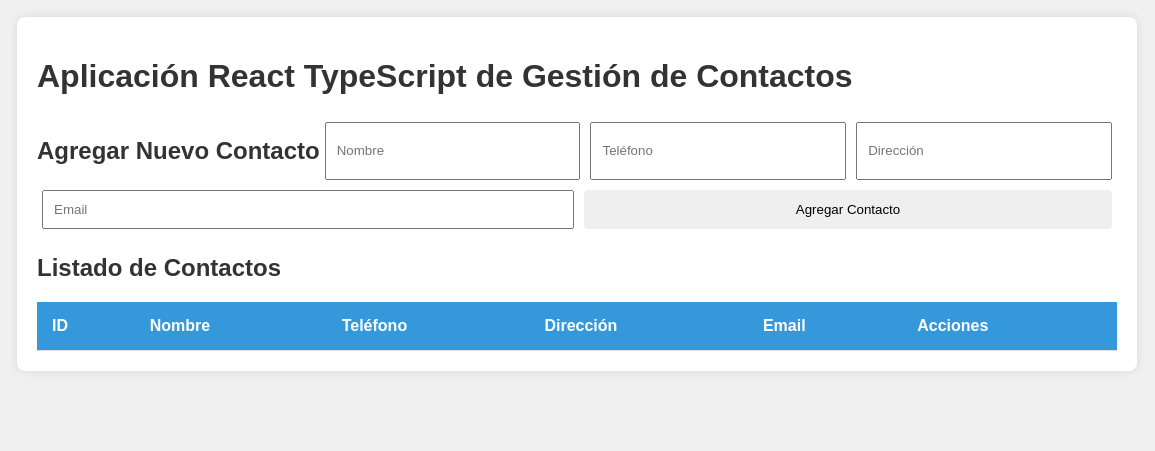
Test case: adds a new contact
# Simula la entrada de datos
In the field with placeholder "Nombre": (453, 151) [325,122,580,180], type "William Camacho"
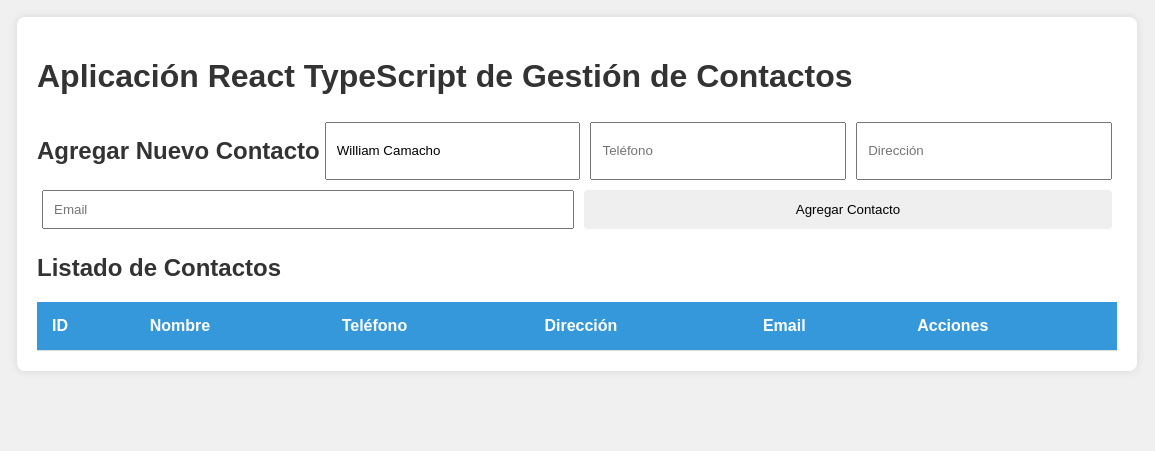
In the field with placeholder "Teléfono": (718, 151) [590,122,846,180], type "123456789"
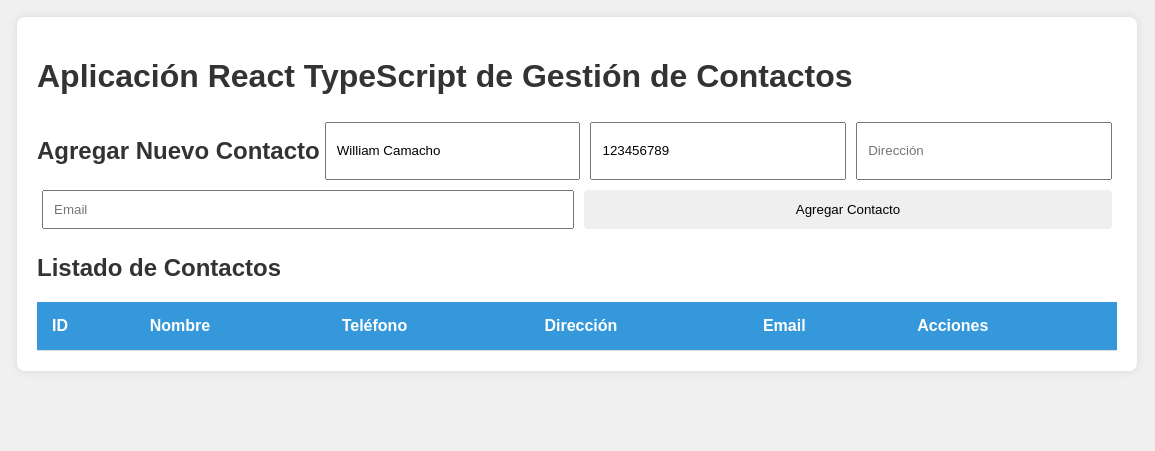
In the field with placeholder "Dirección": (984, 151) [856,122,1112,180], type "123 Main St"
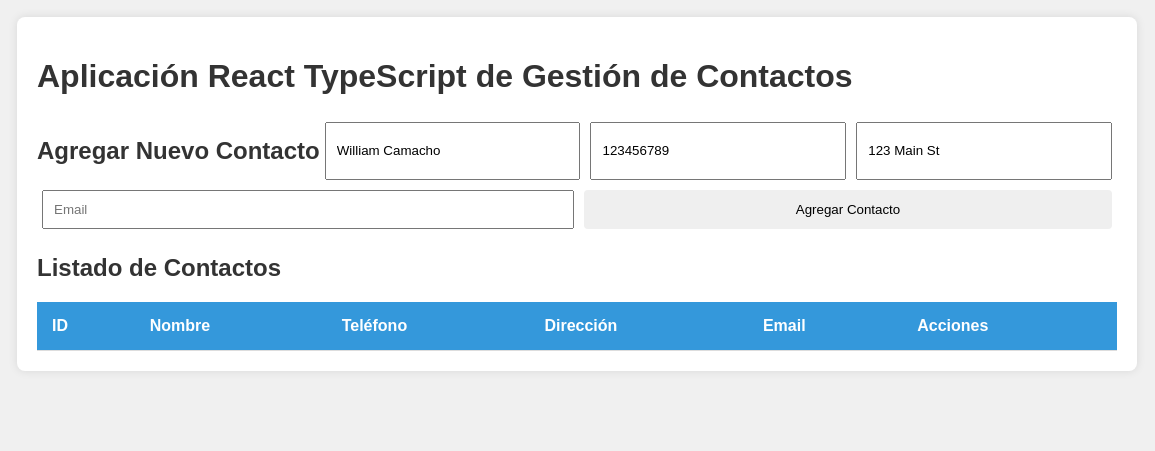
In the field with placeholder "Email": (308, 209) [42,190,574,229], type "john@example.com"
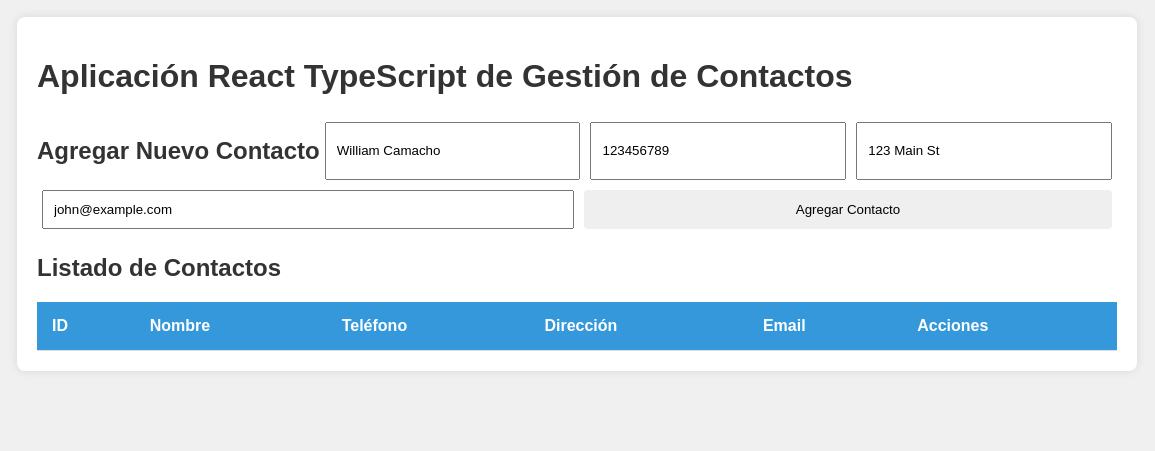
# Simula el clic en el botón de agregar contacto
Click the button "Agregar Contacto": (848, 209) [584,190,1112,229]
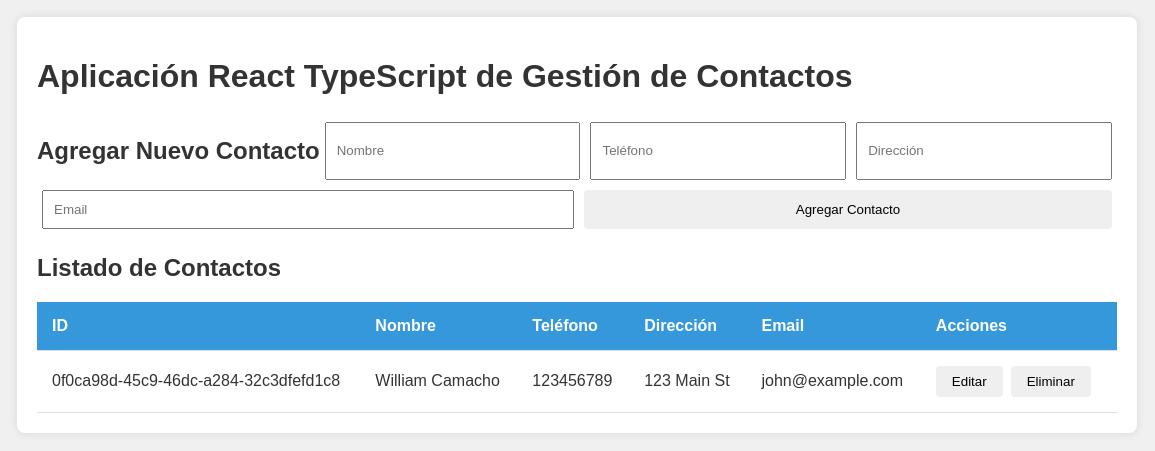
Expected: the text "William Camacho" is shown, [360,350,517,412]
Expected: the text "123456789" is shown, [517,350,629,412]
Expected: the text "123 Main St" is shown, [629,350,746,412]
